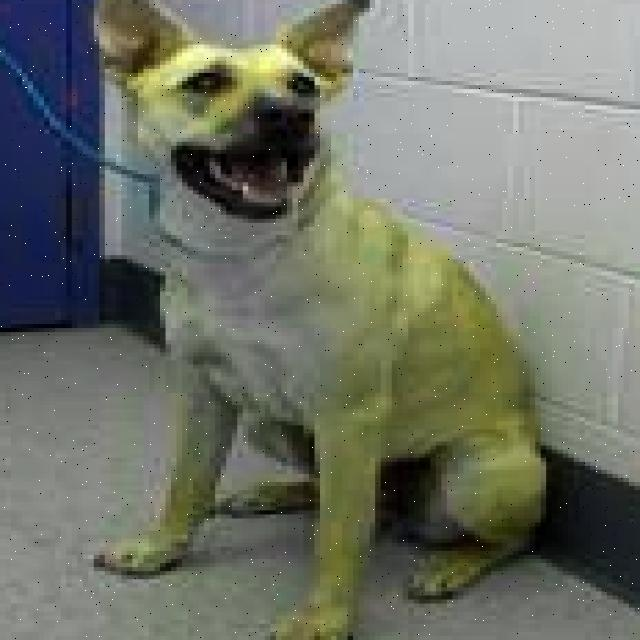Dog: (77, 0, 392, 227)
